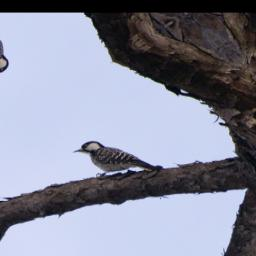Woodpecker: (65, 118, 171, 202)
